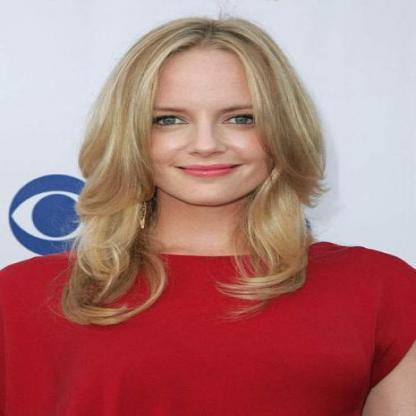long-hair: (63, 208, 324, 266)
